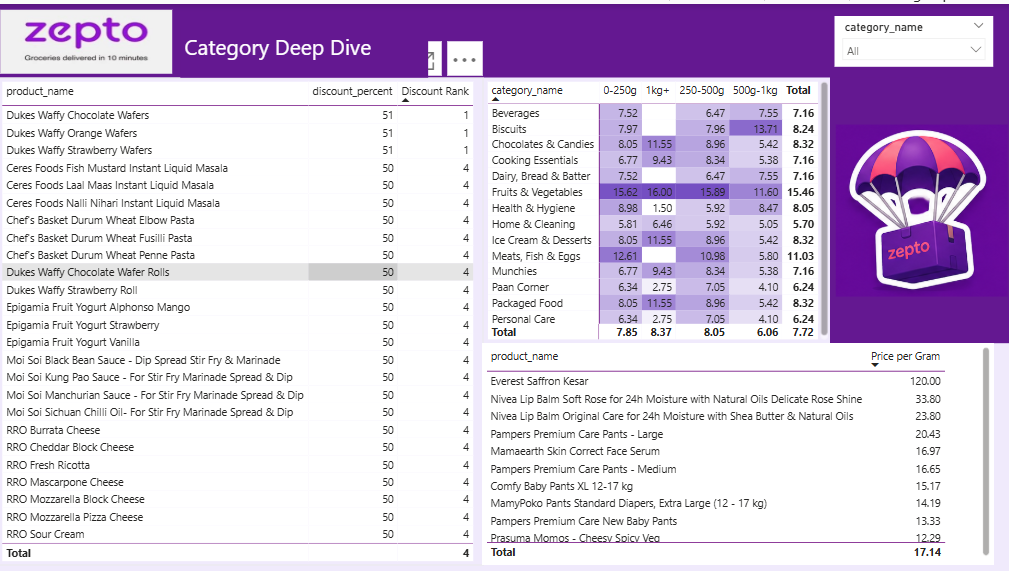

This screenshot's page, from the dashboard's own definition file:
{"tool":"powerbi","page":{"name":"Deep Dive","canvas":[1280,720],"ordinal":4},"visuals":[{"type":"shape","box":[1050.9,0,228.3,427.5],"z":0},{"type":"shape","box":[0,0,1279.4,92.6],"z":1000},{"type":"pivotTable","fields":{"Columns":["Weight_Band.band_label"],"Values":["Fact_Products.Avg Discount %"],"Rows":["Category.category_name"]},"box":[613.7,92.3,438.8,335.2],"z":2000},{"type":"tableEx","fields":{"Values":["Fact_Products.product_name","Fact_Products.discount_percent","Fact_Products.Discount Rank"]},"box":[1.9,92.6,612.3,614.2],"z":3000},{"type":"tableEx","fields":{"Values":["Fact_Products.product_name","Fact_Products.Price per Gram"]},"box":[612.1,427.5,644.5,278.5],"z":4000},{"type":"slicer","fields":{"Values":["Category.category_name"]},"box":[1056.4,15.1,200.3,64.3],"z":5000},{"type":"image","box":[1052.5,92.3,226.7,335.2],"z":6000},{"type":"textbox","box":[232.4,30.2,311.8,62.4],"z":7000},{"type":"image","box":[0,1.9,226.8,90.7],"z":8000}]}

Visuals, with their boxes in screenshot pixels (x1, y1, x2, y2), scaled from the page's 1280x720 canvas onto the 1009x571 screenshot:
shape: x1=828, y1=0, x2=1008, y2=339
shape: x1=0, y1=0, x2=1008, y2=73
pivotTable - Weight_Band.band_label x Fact_Products.Avg Discount %: x1=484, y1=73, x2=830, y2=339
tableEx - Fact_Products.product_name x Fact_Products.discount_percent: x1=1, y1=73, x2=484, y2=561
tableEx - Fact_Products.product_name x Fact_Products.Price per Gram: x1=483, y1=339, x2=991, y2=560
slicer - Category.category_name: x1=833, y1=12, x2=991, y2=63
image: x1=830, y1=73, x2=1008, y2=339
textbox: x1=183, y1=24, x2=429, y2=73
image: x1=0, y1=2, x2=179, y2=73
